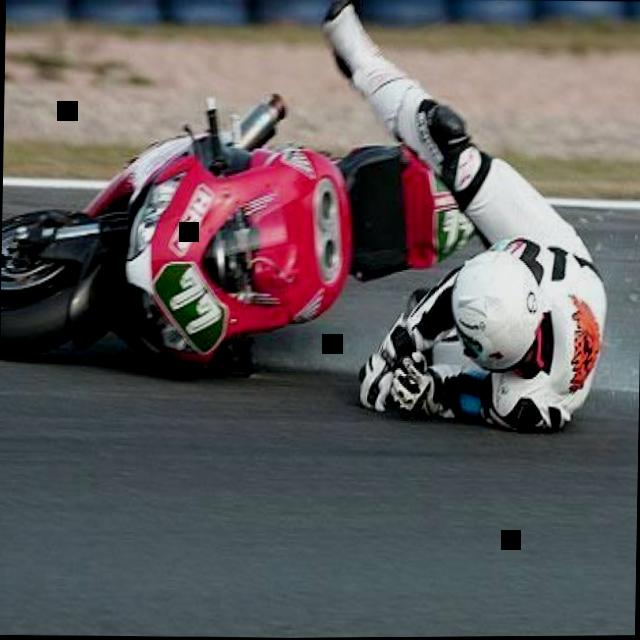Fall-Detected: (318, 0, 634, 416)
